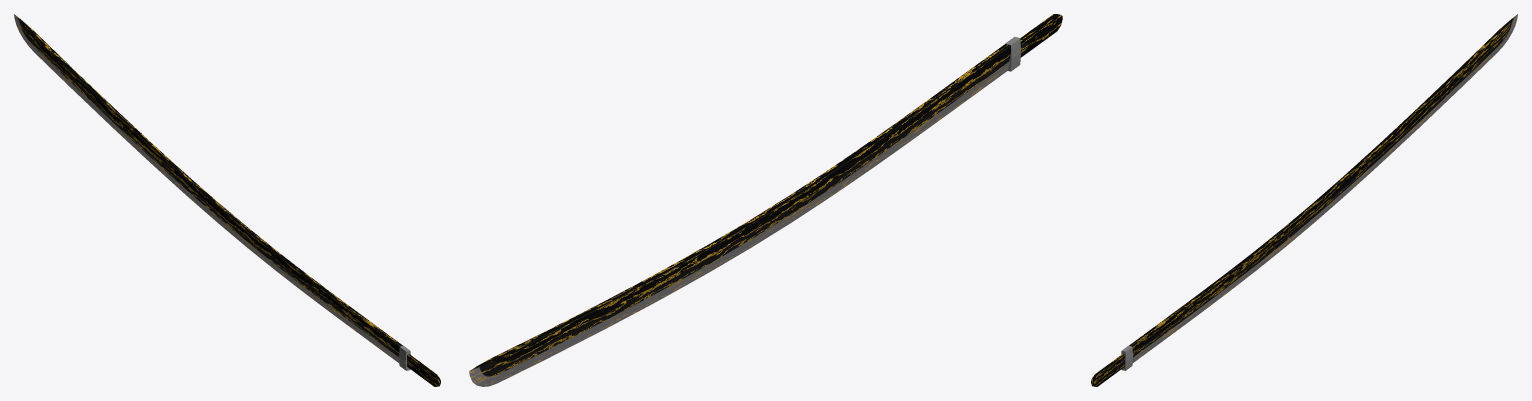
Rendered from blade_thunder.glb.
3 views of the same model, side by side, from view 1: azimuth 30°, elevation 25°; view 2: azimuth 150°, elevation 25°; view 3: azimuth 330°, elevation 25° (orthographic). The views are drawn at different scales.
Parts seen in each view (by area): view 1: Blade; view 2: Blade; view 3: Blade.
Part boxes in pixels (x1,y1,x2,y2): Blade: (14, 14, 440, 386); Blade: (469, 14, 1062, 386); Blade: (1091, 14, 1517, 386).
Bounding box in the file's own units: 0.0197 × 0.2422 × 2.75.
2 materials, 1 textured.
